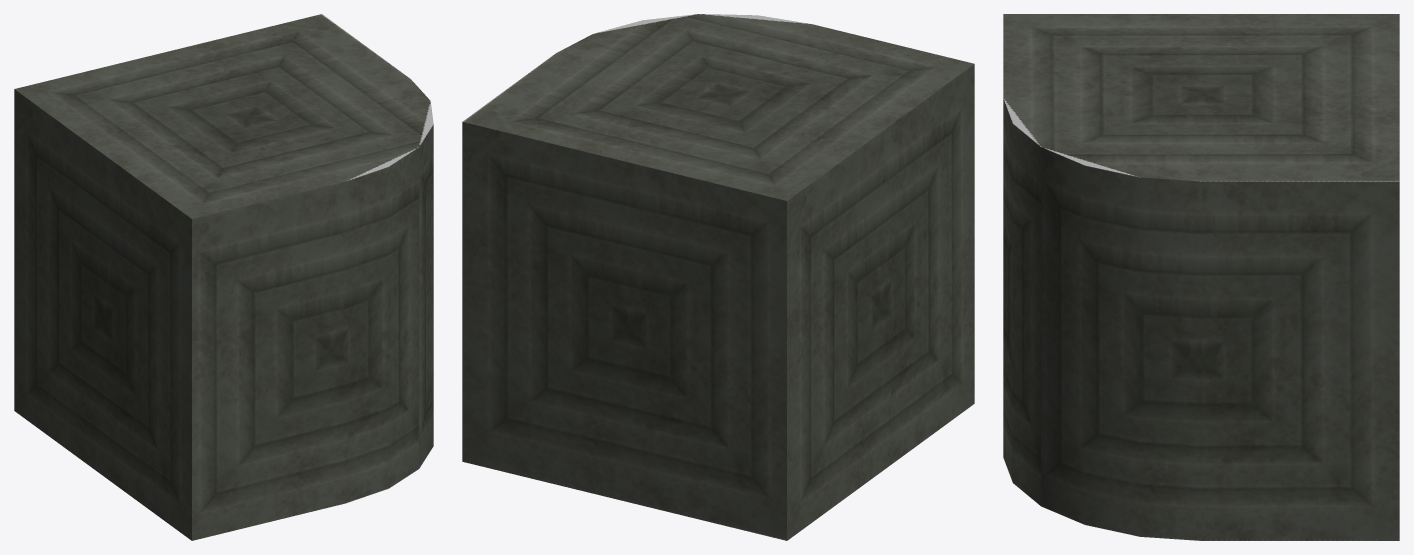
File: WALL_CORNER.glb
3 renders of one model, left to right at view 1: azimuth 30°, elevation 25°; view 2: azimuth 150°, elevation 25°; view 3: azimuth 270°, elevation 25°, orthographic. The views are drawn at different scales.
Visible parts, largest first — view 1: [OBJ] Wall Corner; view 2: [OBJ] Wall Corner; view 3: [OBJ] Wall Corner.
Part boxes in pixels (x1,y1,x2,y2): [OBJ] Wall Corner: (14,14,433,540); [OBJ] Wall Corner: (462,14,974,540); [OBJ] Wall Corner: (1003,14,1399,540).
Bounding box in the file's own units: 2 × 2 × 2.
Materials: 1 (1 with a texture image).
